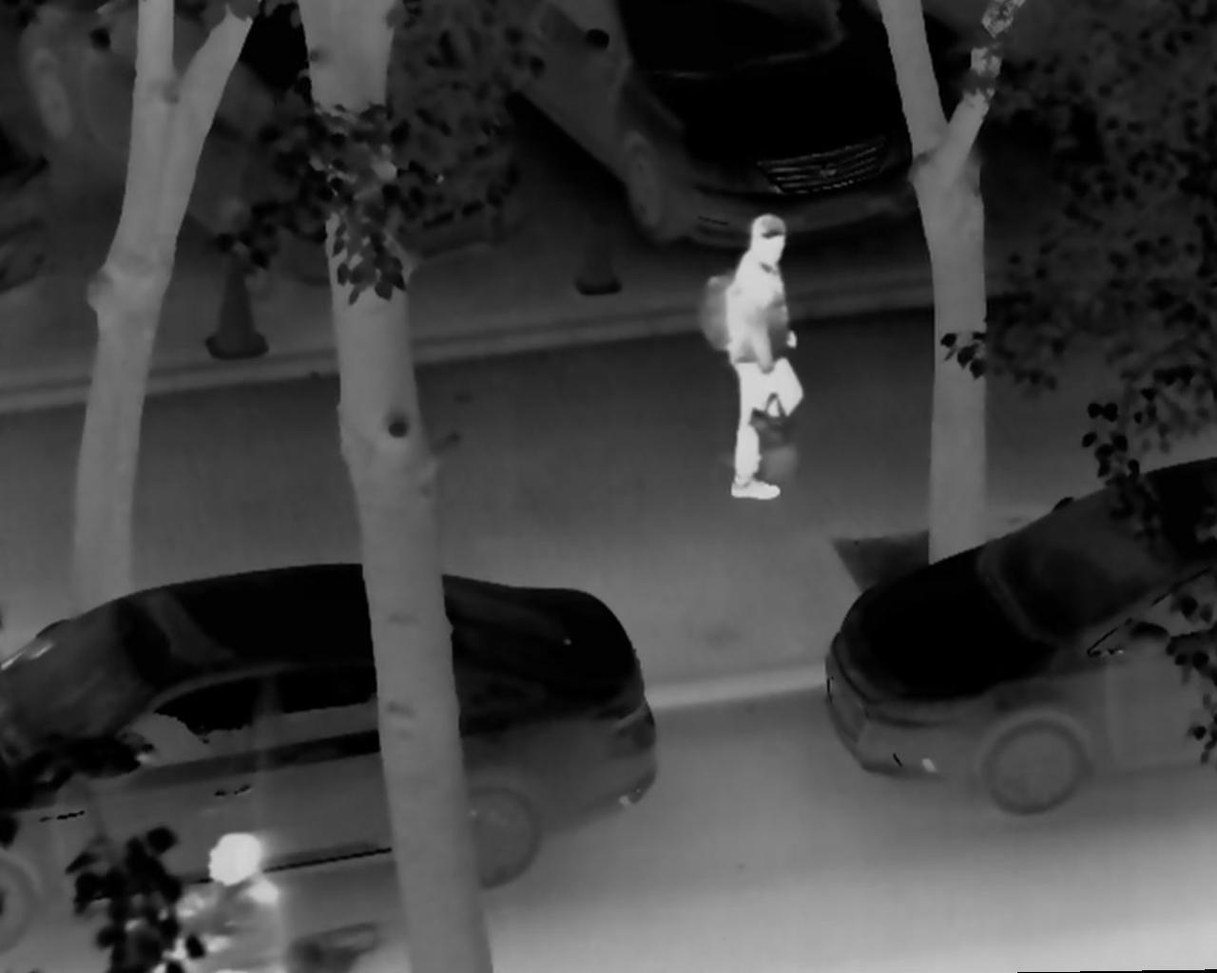person: (704, 211, 810, 508), (144, 825, 299, 973)
